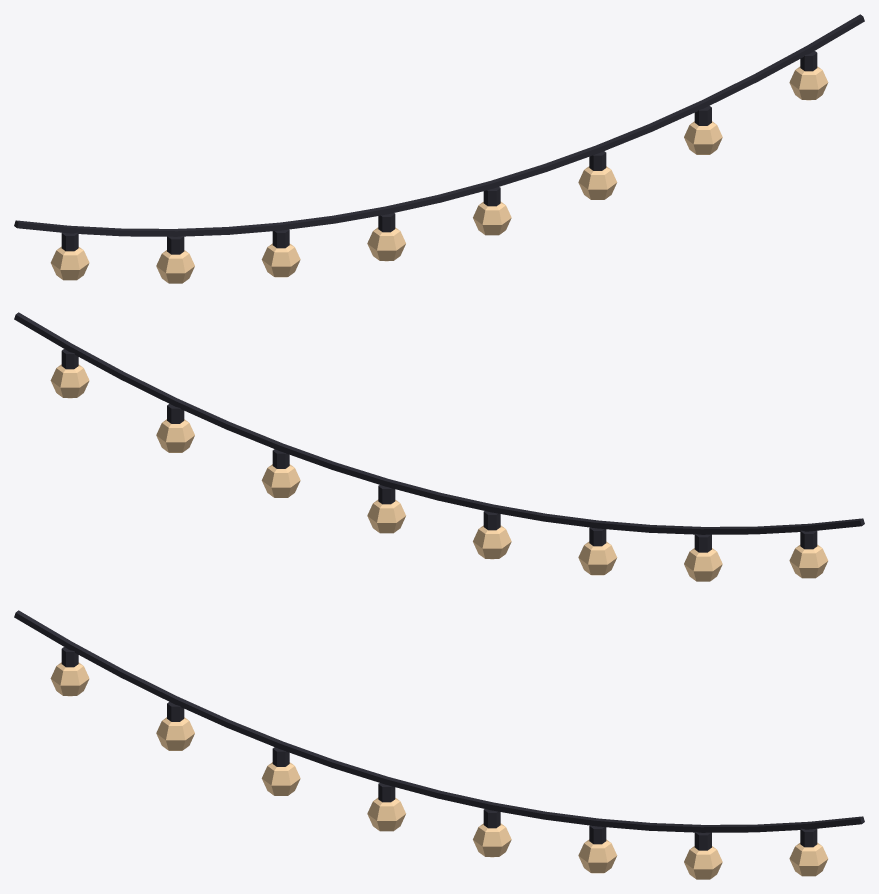
File: CatCafe_Decor_StringLights.fbx
The picture shows the model from 3 angles, top to bottom: view 1: azimuth 30°, elevation 25°; view 2: azimuth 150°, elevation 25°; view 3: azimuth 330°, elevation 25°; orthographic projection.
Parts seen in each view (by area): view 1: CatCafe_Decor_StringLights_Wire, CatCafe_Decor_StringLights_Bulbs; view 2: CatCafe_Decor_StringLights_Wire, CatCafe_Decor_StringLights_Bulbs; view 3: CatCafe_Decor_StringLights_Wire, CatCafe_Decor_StringLights_Bulbs.
Part boxes in pixels (bbox=[...]): CatCafe_Decor_StringLights_Wire: bbox=[14, 14, 864, 254]; CatCafe_Decor_StringLights_Bulbs: bbox=[50, 66, 828, 283]; CatCafe_Decor_StringLights_Wire: bbox=[14, 312, 864, 552]; CatCafe_Decor_StringLights_Bulbs: bbox=[50, 364, 828, 581]; CatCafe_Decor_StringLights_Wire: bbox=[14, 610, 864, 850]; CatCafe_Decor_StringLights_Bulbs: bbox=[50, 662, 828, 879].
Bounding box in the file's own units: 8.03 × 1.18 × 0.32.
Materials: 1 (1 with a texture image).
